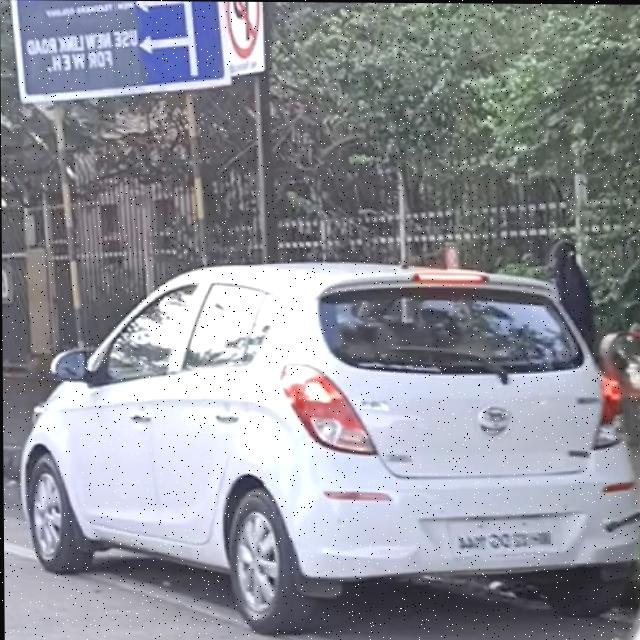plate: (452, 522, 558, 557)
